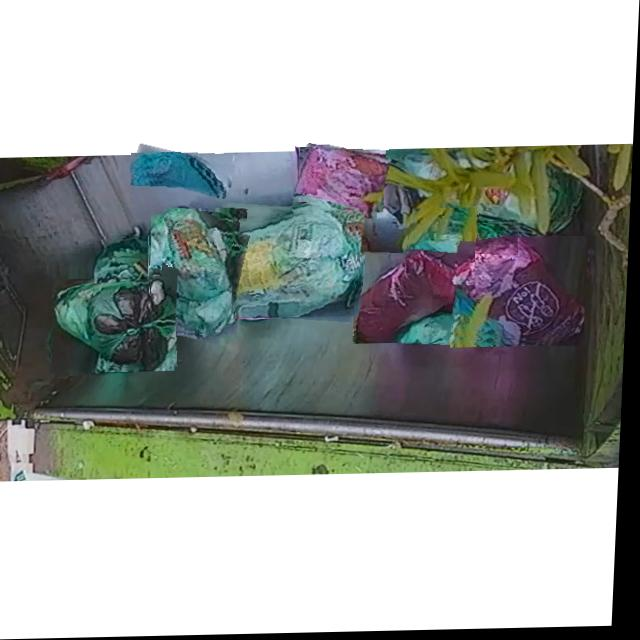general_trashbag: (217, 212, 359, 319), (56, 278, 179, 368), (166, 210, 233, 335), (408, 211, 477, 287), (132, 153, 228, 198), (96, 237, 152, 295), (480, 226, 520, 257)
other_trashbag: (459, 240, 588, 346), (359, 255, 460, 341), (295, 146, 390, 219)
